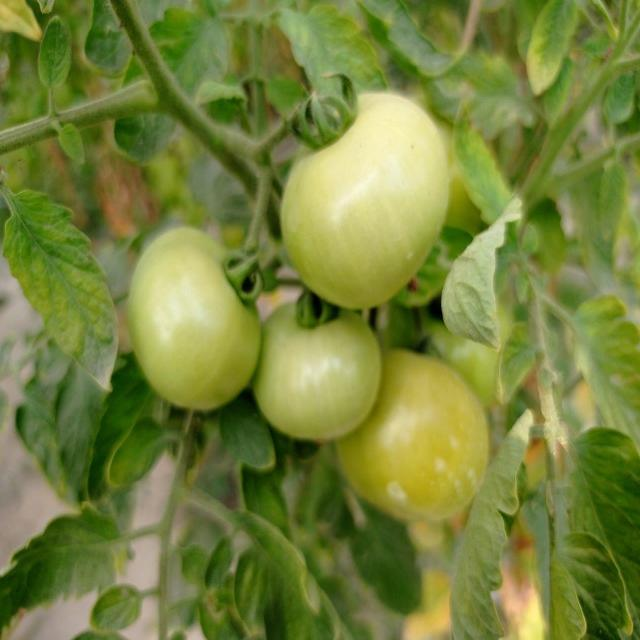Unripe: (281, 90, 445, 310), (130, 229, 260, 412), (254, 299, 381, 442)
